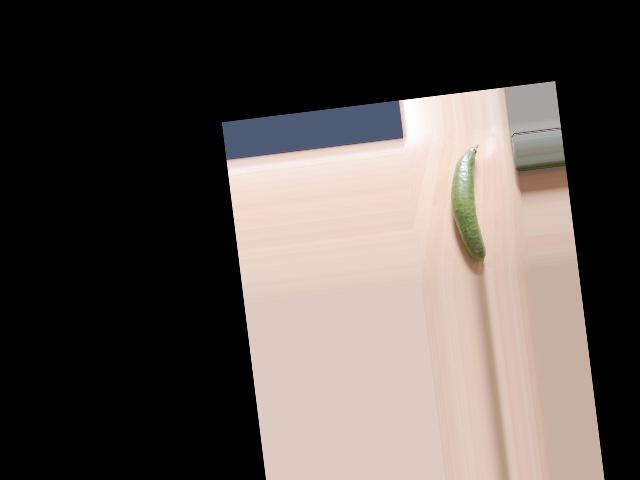cucumber: (443, 143, 492, 265)
